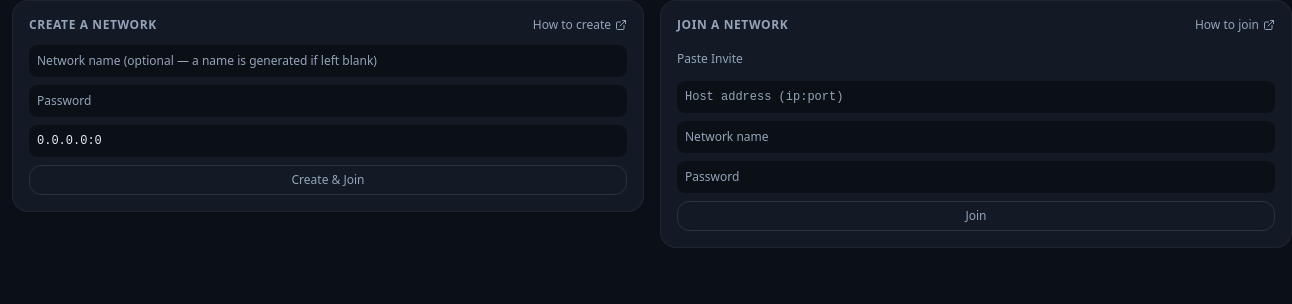
VirtualNetworkPanel — invite copy/paste › shows an error and leaves the join fields untouched when the clipboard has no valid invite
What coordinates should you click on to do the following:
click the button with test id "vn-paste-invite"
I would click on:
 (710, 59)
Its box is [665,45,755,73].
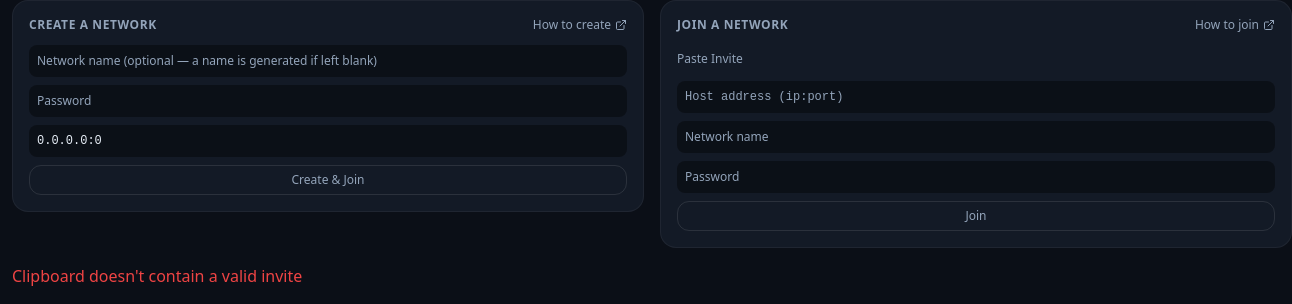
Expected: the field with test id "vn-join-host-addr" is empty, [677,81,1275,113]
Expected: the text with test id "vn-error" reads "Clipboard doesn't contain a valid invite", [12,265,302,287]
